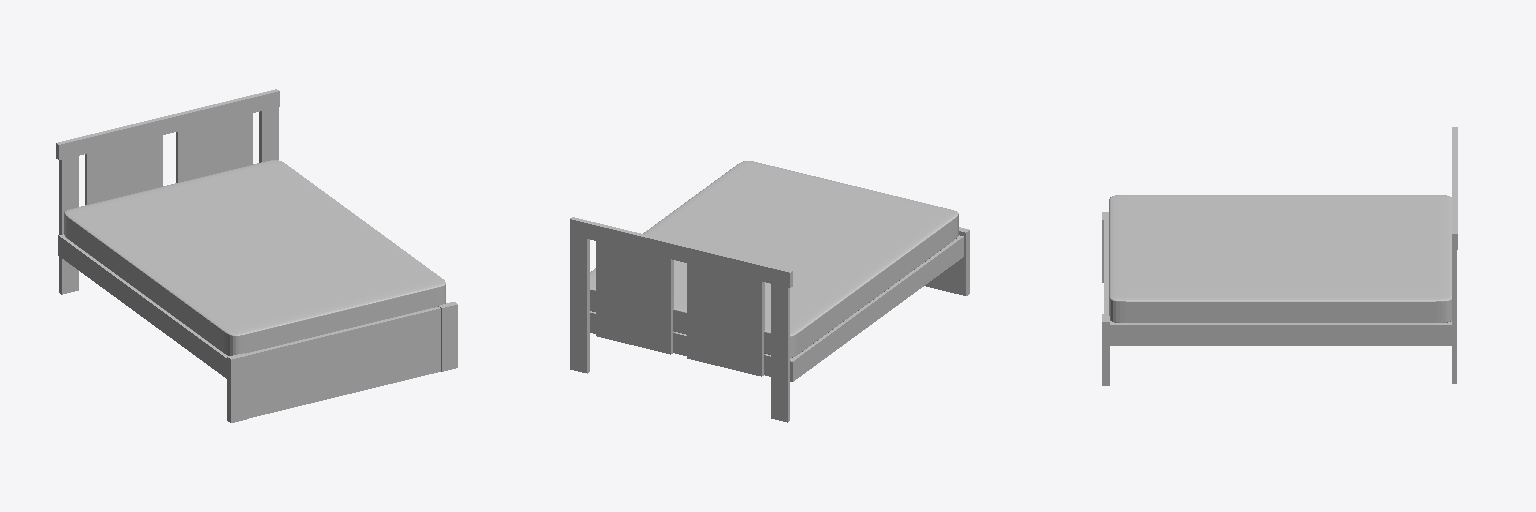
Rendered from SONGESAND2.obj.
3 renders of one model, left to right at view 1: azimuth 30°, elevation 25°; view 2: azimuth 150°, elevation 25°; view 3: azimuth 270°, elevation 25°, orthographic.
Parts seen in each view (by area): view 1: Cube.005_Cube.006, Cube.001_Cube.002, Cube.008_Cube.009, Cube_Cube.001, Cube.002_Cube.003, Cube.009_Cube.011, Cube.006_Cube.010, Cube.004_Cube.005, Cube.003_Cube.004, Cube.007_Cube.008; view 2: Cube.005_Cube.006, Cube_Cube.001, Cube.009_Cube.011, Cube.002_Cube.003, Cube.008_Cube.009, Cube.007_Cube.008, Cube.006_Cube.010, Cube.004_Cube.005; view 3: Cube.005_Cube.006, Cube.002_Cube.003, Cube.008_Cube.009, Cube.007_Cube.008, Cube.003_Cube.004.
Boxes of the visible parts, x1=… form: Cube.005_Cube.006: x1=64, y1=160, x2=445, y2=355; Cube.001_Cube.002: x1=228, y1=307, x2=440, y2=421; Cube.008_Cube.009: x1=56, y1=89, x2=279, y2=159; Cube_Cube.001: x1=85, y1=135, x2=162, y2=204; Cube.002_Cube.003: x1=58, y1=234, x2=228, y2=378; Cube.009_Cube.011: x1=176, y1=113, x2=252, y2=182; Cube.006_Cube.010: x1=59, y1=156, x2=78, y2=294; Cube.004_Cube.005: x1=227, y1=353, x2=247, y2=422; Cube.003_Cube.004: x1=438, y1=302, x2=457, y2=371; Cube.007_Cube.008: x1=259, y1=107, x2=278, y2=162; Cube.005_Cube.006: x1=590, y1=161, x2=958, y2=357; Cube_Cube.001: x1=687, y1=263, x2=764, y2=376; Cube.009_Cube.011: x1=596, y1=241, x2=673, y2=354; Cube.002_Cube.003: x1=590, y1=235, x2=963, y2=381; Cube.008_Cube.009: x1=570, y1=217, x2=792, y2=287; Cube.007_Cube.008: x1=570, y1=235, x2=589, y2=373; Cube.006_Cube.010: x1=771, y1=284, x2=789, y2=422; Cube.004_Cube.005: x1=950, y1=227, x2=969, y2=295; Cube.005_Cube.006: x1=1109, y1=195, x2=1451, y2=322; Cube.002_Cube.003: x1=1110, y1=321, x2=1452, y2=345; Cube.008_Cube.009: x1=1452, y1=127, x2=1457, y2=249; Cube.007_Cube.008: x1=1452, y1=250, x2=1456, y2=383; Cube.003_Cube.004: x1=1102, y1=314, x2=1109, y2=385.
Size of the model in its own units: 3.07 by 1.95 by 4.16.